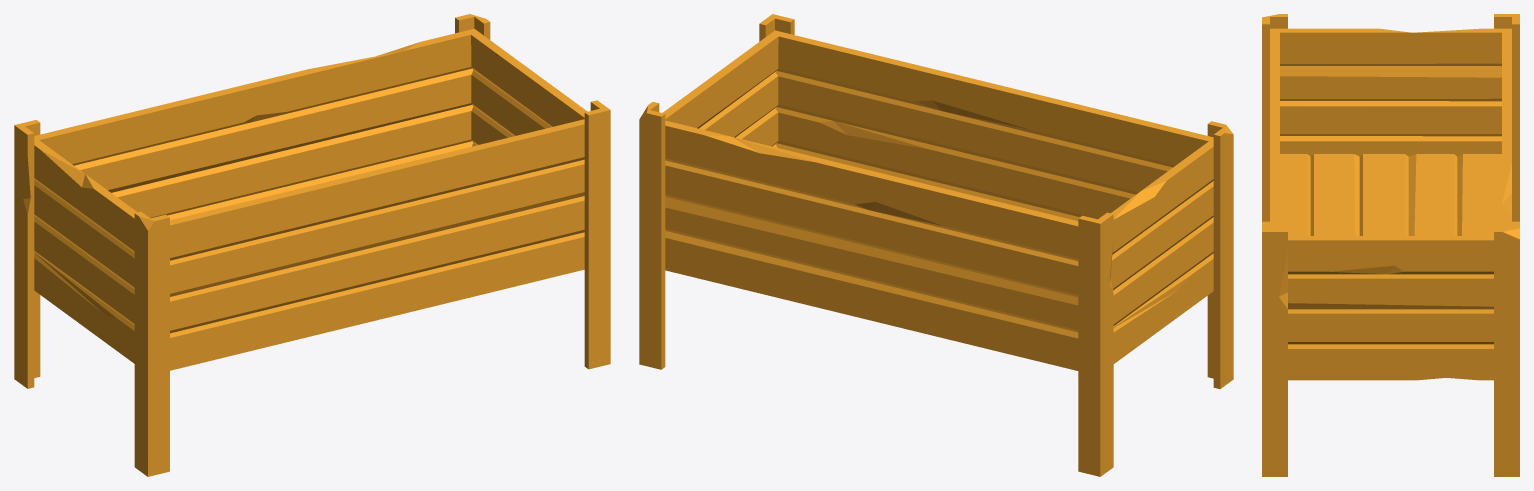
File: SM_Planter_Box_1x2m_A_Farm.fbx
3 views of the same model, side by side, from view 1: azimuth 30°, elevation 25°; view 2: azimuth 150°, elevation 25°; view 3: azimuth 270°, elevation 25° (orthographic). The views are drawn at different scales.
Parts seen in each view (by area): view 1: planter-box-1x2m-a-farm; view 2: planter-box-1x2m-a-farm; view 3: planter-box-1x2m-a-farm.
Part boxes in pixels (x1,y1,x2,y2): planter-box-1x2m-a-farm: (14,14,610,476); planter-box-1x2m-a-farm: (639,14,1233,476); planter-box-1x2m-a-farm: (1262,14,1519,476).
Bounding box in the file's own units: 2 × 1.05 × 1.
